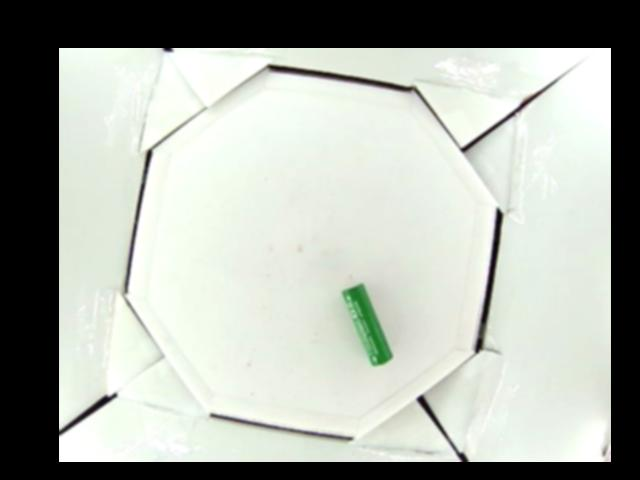Battery: (340, 284, 395, 365)
